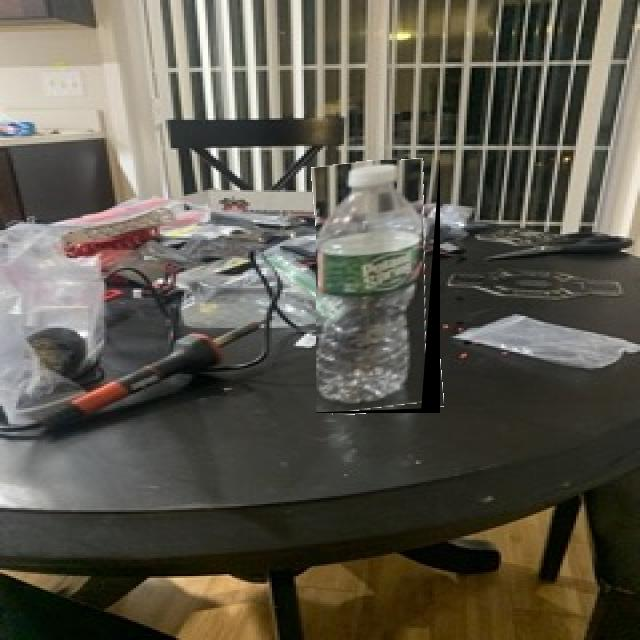water_bottle: (316, 160, 440, 413)
